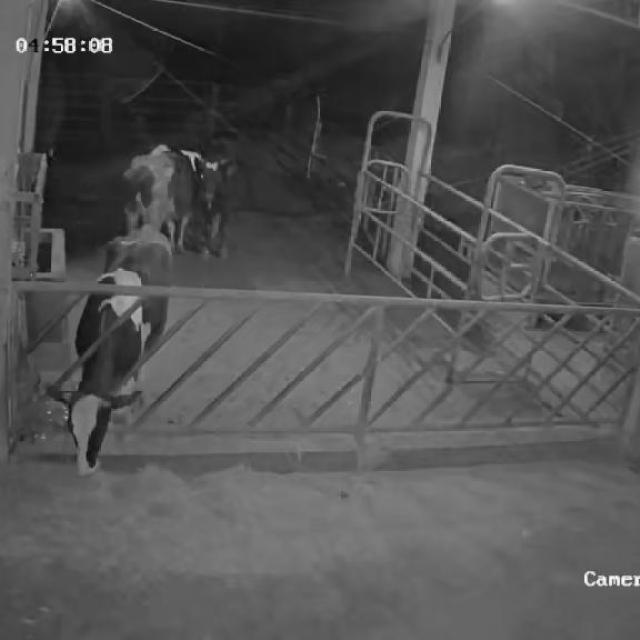feeding: (36, 256, 171, 491)
